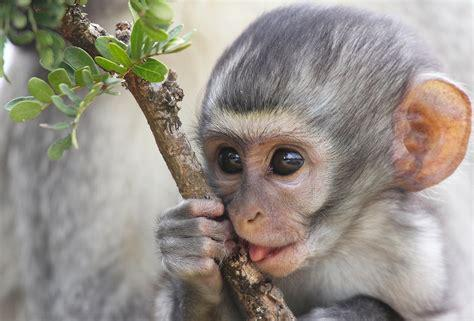monkey: (156, 5, 471, 321)
